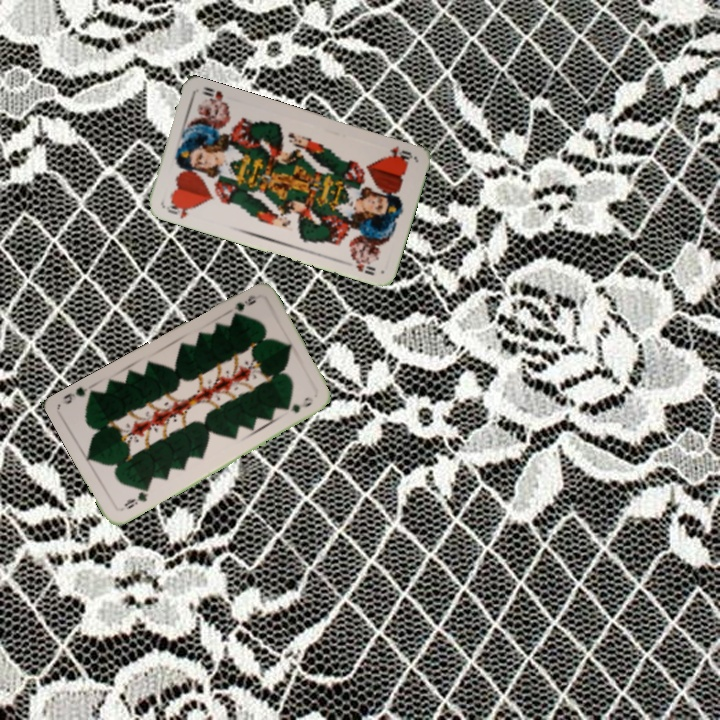G9: (227, 291, 259, 322), (120, 484, 151, 512)
HO: (160, 198, 198, 221), (384, 142, 416, 165)
